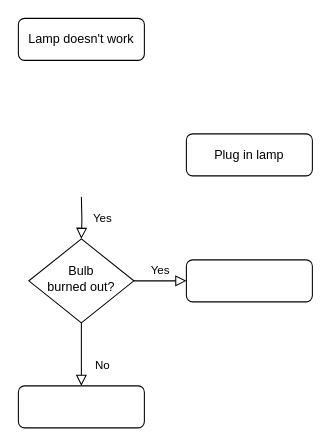
The diagram is 331 pixels wide and 446 high, and some of its shapes have lost their labels. The shapes that lost their labels are listed below. From the top down, each one's centre as x and y in pixels, then its label:
point (248, 280): Replace Bulb
point (80, 406): Repair Lamp
